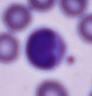M: (24, 26, 69, 70)
